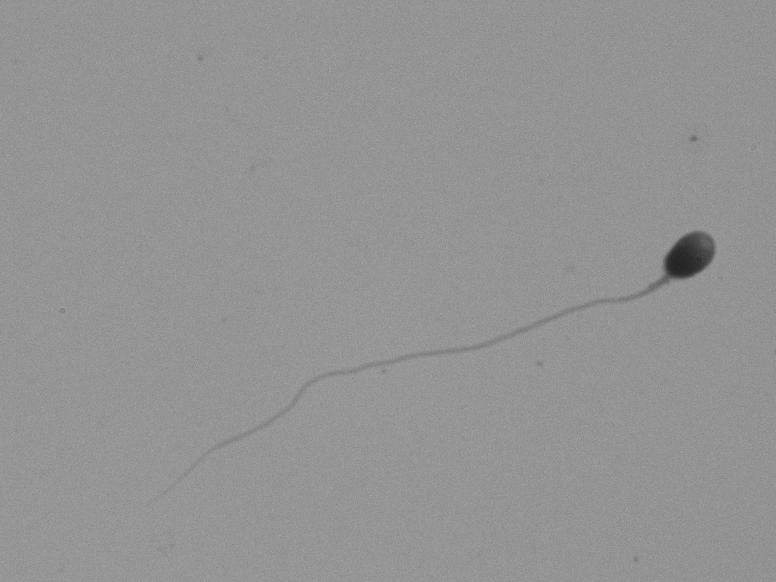Normal: (165, 211, 761, 510)
